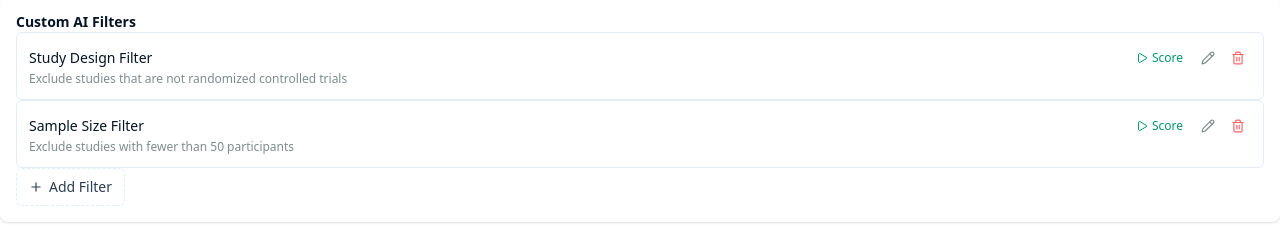
Test: CustomAiFilterEditor › deletes a filter after confirmation
Click the button with test id "delete-filter-f-1". click: [1238, 58]
box: x1=1225 y1=45 x2=1251 y2=71
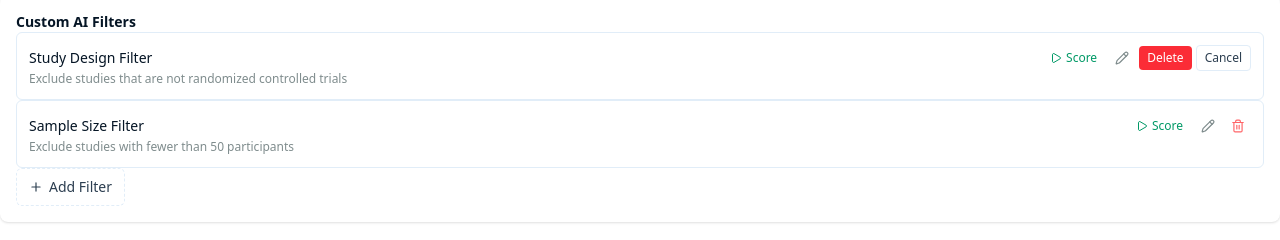
Click the button with test id "confirm-delete-f-1". click: [1165, 58]
box: x1=1139 y1=46 x2=1192 y2=70
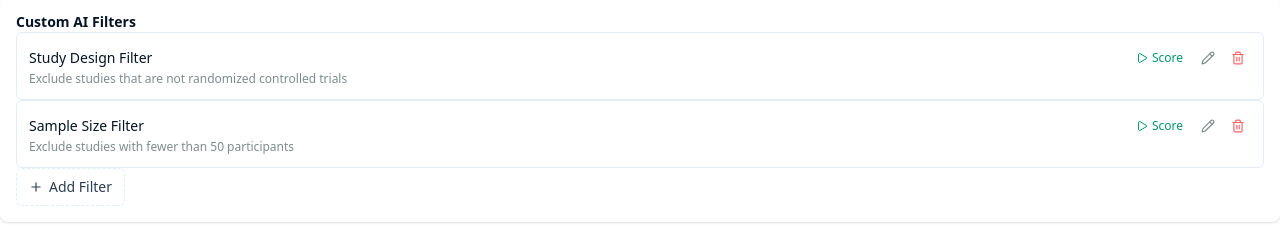
Check: the button with test id "confirm-delete-f-1" is gone
